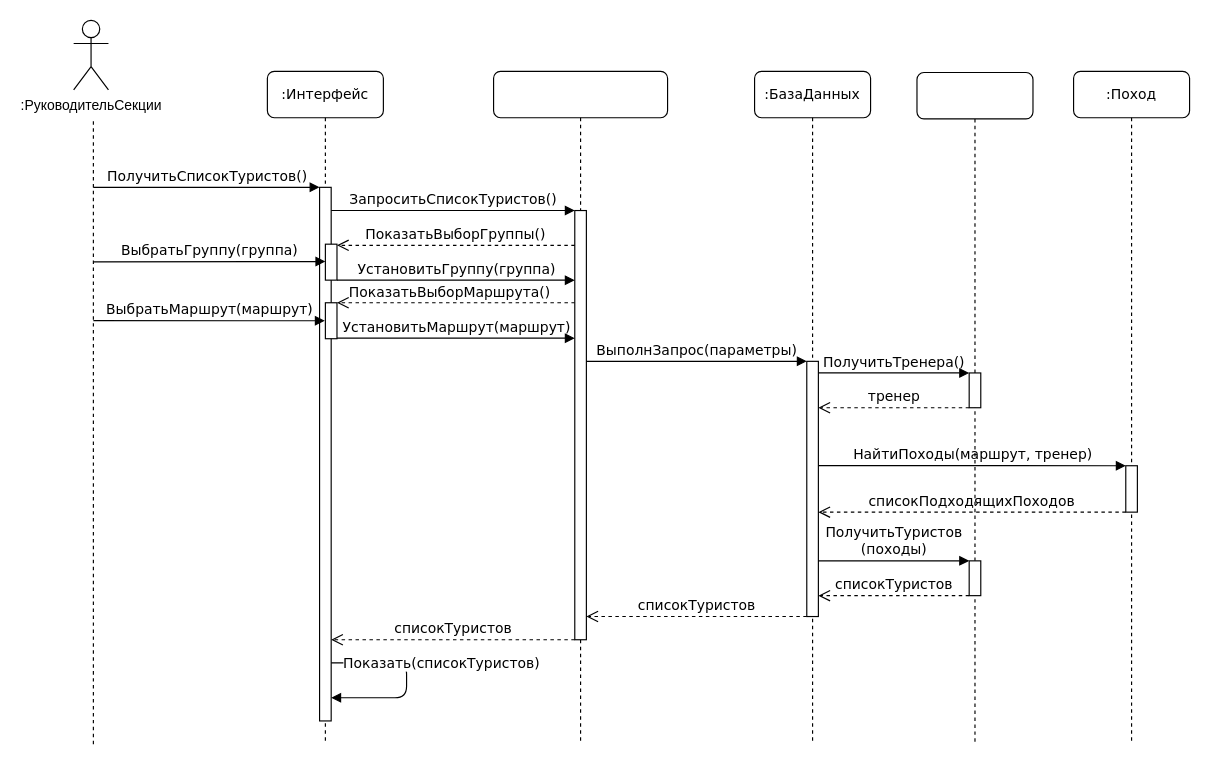
Some shapes in this 1210 by 766 pixel diagram are drawn without their labels. The box of each missing label's shape, as (x1, y1, x2, y2) in pixels:
:Группа: (916, 71, 1033, 745)
:КонтроллерЗапросов: (492, 70, 668, 744)
